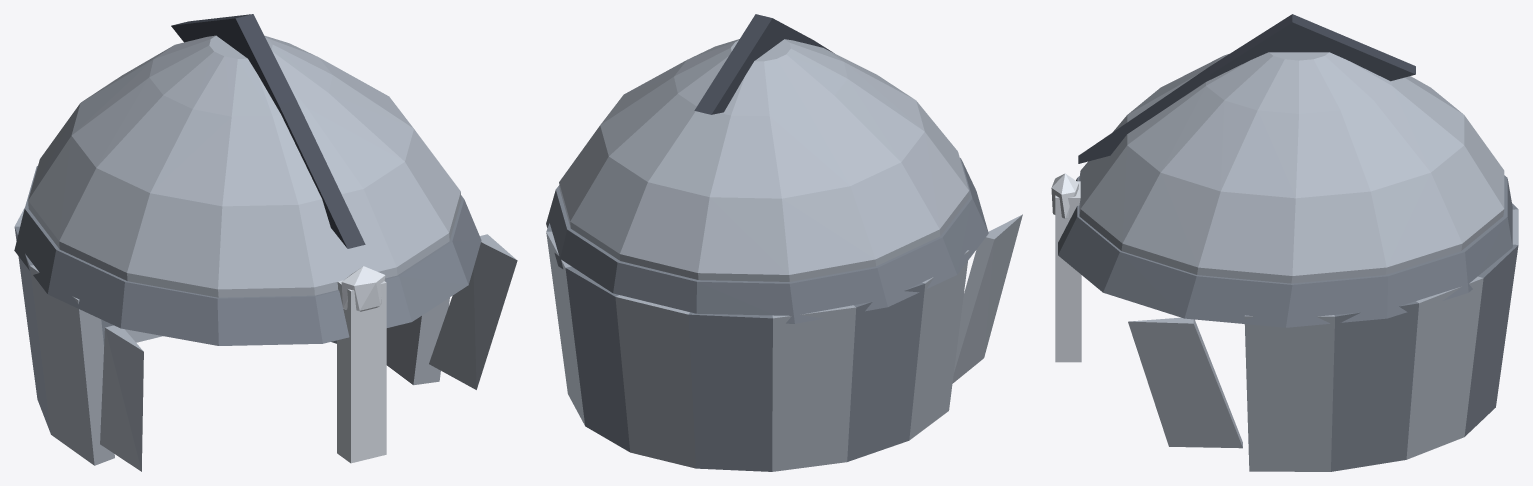
File: gear_steel_helm.glb
3 renders of one model, left to right at view 1: azimuth 30°, elevation 25°; view 2: azimuth 150°, elevation 25°; view 3: azimuth 270°, elevation 25°, orthographic. The views are drawn at different scales.
Parts seen in each view (by area): view 1: gear_steel_helm; view 2: gear_steel_helm; view 3: gear_steel_helm.
Part boxes in pixels (x1,y1,x2,y2): gear_steel_helm: (14,14,517,471); gear_steel_helm: (546,14,1022,471); gear_steel_helm: (1051,14,1518,471).
Bounding box in the file's own units: 0.268 × 0.25 × 0.2836.
